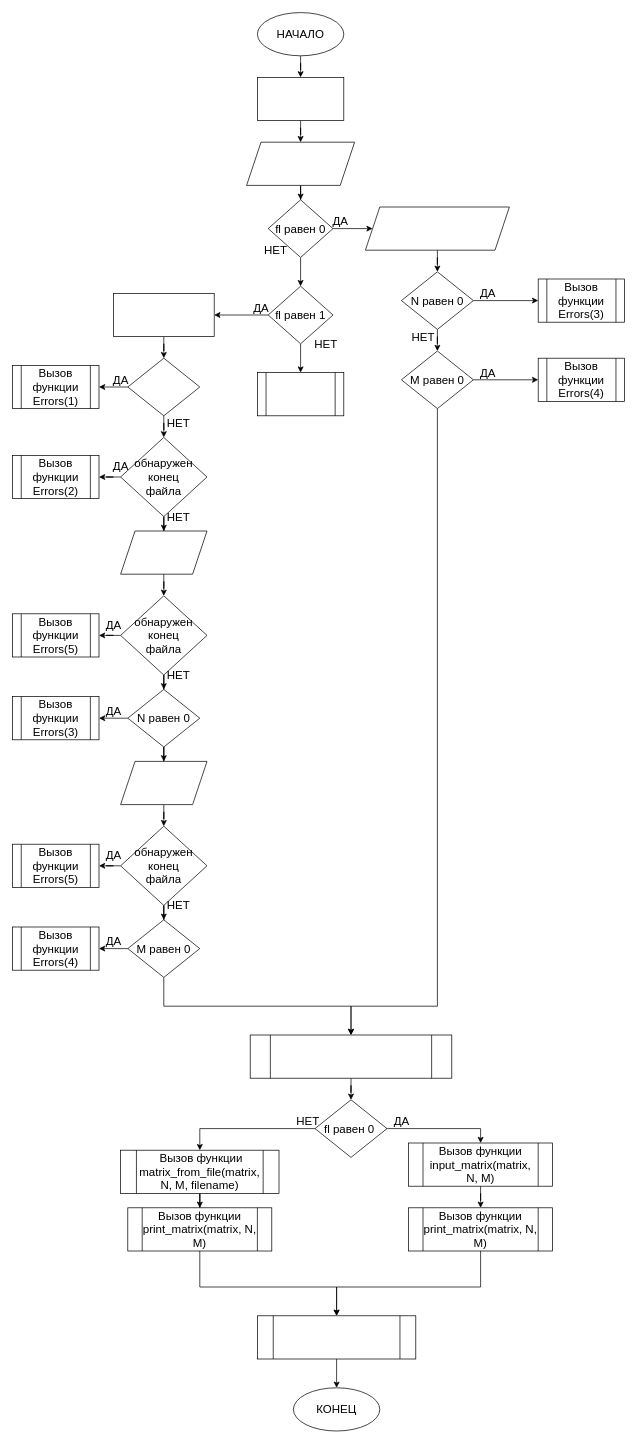
Some shapes in this 637 by 1444 pixel diagram are drawn without their labels. The centre of each missing label's shape, as x and y in pixels:
"Ввод значения fl - 1 или 0" goes at (300,163).
"Ввод количества строк N и количества столбцов M" goes at (437,228).
"Вызов функции Errors(0)" goes at (300,394).
"Вызов функции memory_for_matrix(N,M) для переменной matrix" goes at (350,1056).
"Вызов функции product(matrix, N, M)" goes at (336,1337).
"Объявление переменных N, M и fl" goes at (300,99).
"Открытие файла с названием filename" goes at (163,315).
"файл не открыт" goes at (163,386).
"Чтение M из файла" goes at (163,783).
"Чтение N из файла" goes at (163,552).
